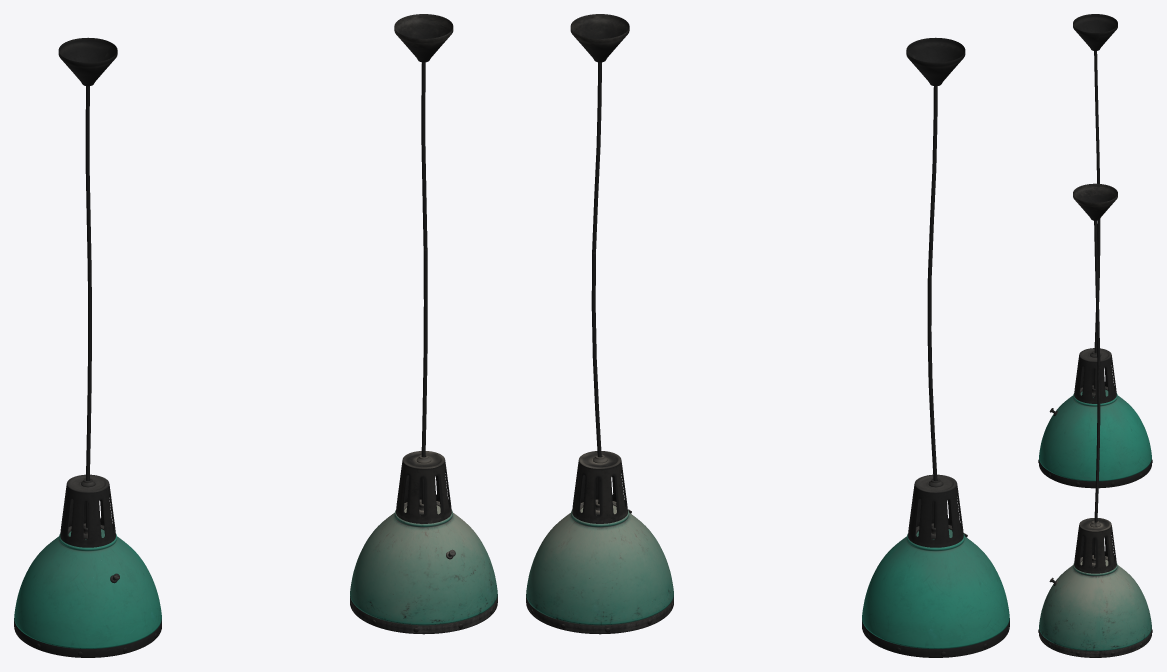
The model's file is retro_light_-_oldclean_model.glb.
3 views of the same model, side by side, from view 1: azimuth 30°, elevation 25°; view 2: azimuth 150°, elevation 25°; view 3: azimuth 270°, elevation 25° (orthographic). The views are drawn at different scales.
Visible parts, largest first — view 1: Broken_retro_light, Clean_retro_light; view 2: Clean_retro_light, Broken_retro_light; view 3: Broken_retro_light, Clean_retro_light.
Part boxes in pixels (left/top/right/bottom): Broken_retro_light: left=350, top=14, right=497, bottom=634; Clean_retro_light: left=14, top=37, right=161, bottom=657; Clean_retro_light: left=862, top=37, right=1009, bottom=657; Broken_retro_light: left=526, top=14, right=673, bottom=634; Broken_retro_light: left=1038, top=183, right=1152, bottom=657; Clean_retro_light: left=1038, top=14, right=1152, bottom=488.
Size of the model in its own units: 249 by 325 by 69.46.
6 materials, 4 textured.
